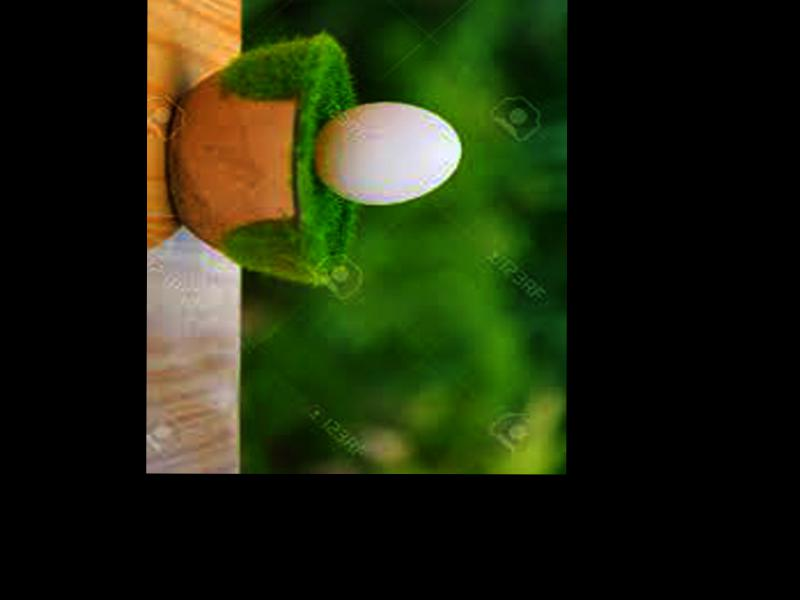Eggs: (314, 103, 459, 207)
